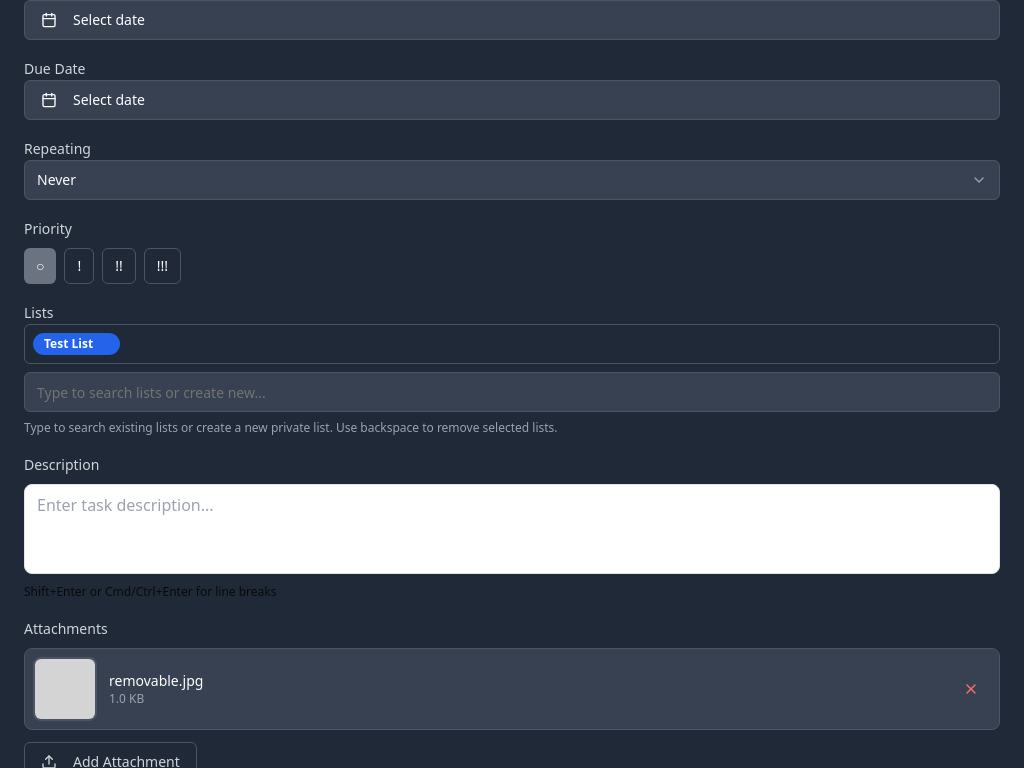
Test case: TaskForm Upload Functionality › File attachment upload › should remove attachment from form
The image size is (1024, 768).
Earlier steps of the test are not shown.
(page scrolled)
expect the element with test id "attachment-viewer" shows "removable.jpg": met, box [109,671,203,690]
expect the element with test id "attachment-viewer" is shown: met, box [24,648,1000,730]
Click the 7th button at [971, 689], box [951,671,991,707]
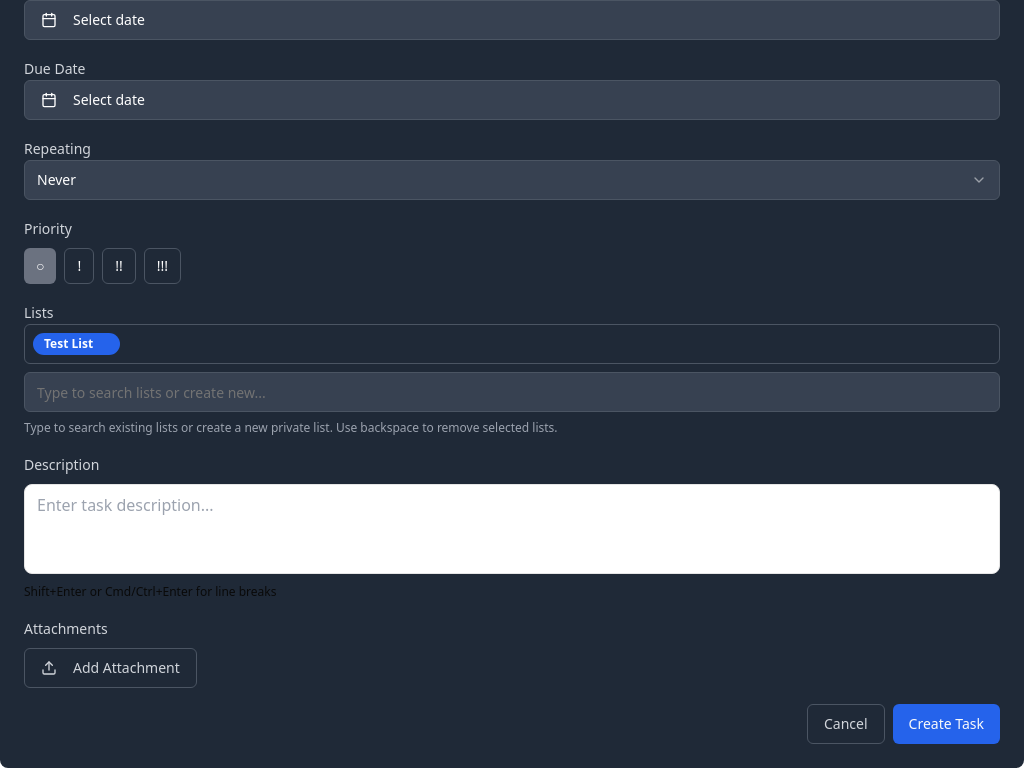
expect the element with test id "attachment-viewer" is gone: met
